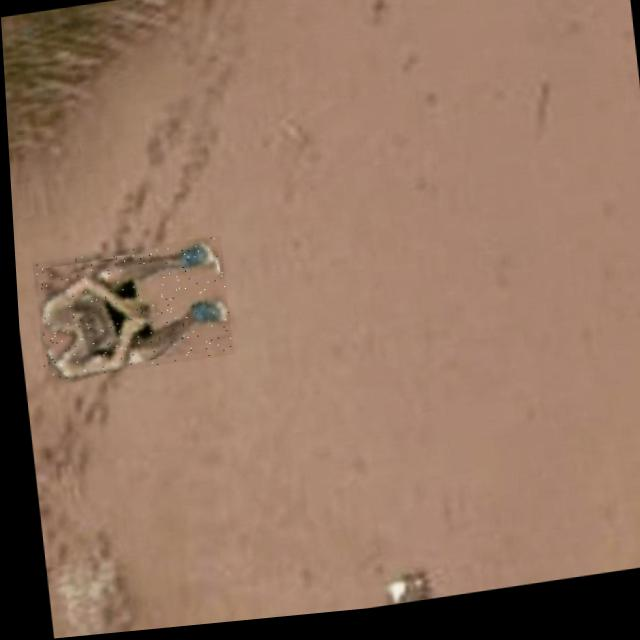Person in Rubble: (28, 238, 229, 383)
